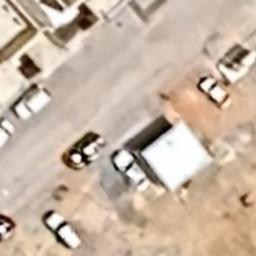SUV: (45, 212, 82, 250), (12, 86, 52, 121)
sedan: (110, 147, 150, 193), (198, 76, 230, 110)
unknown: (62, 134, 106, 172)
van: (0, 118, 14, 154)
